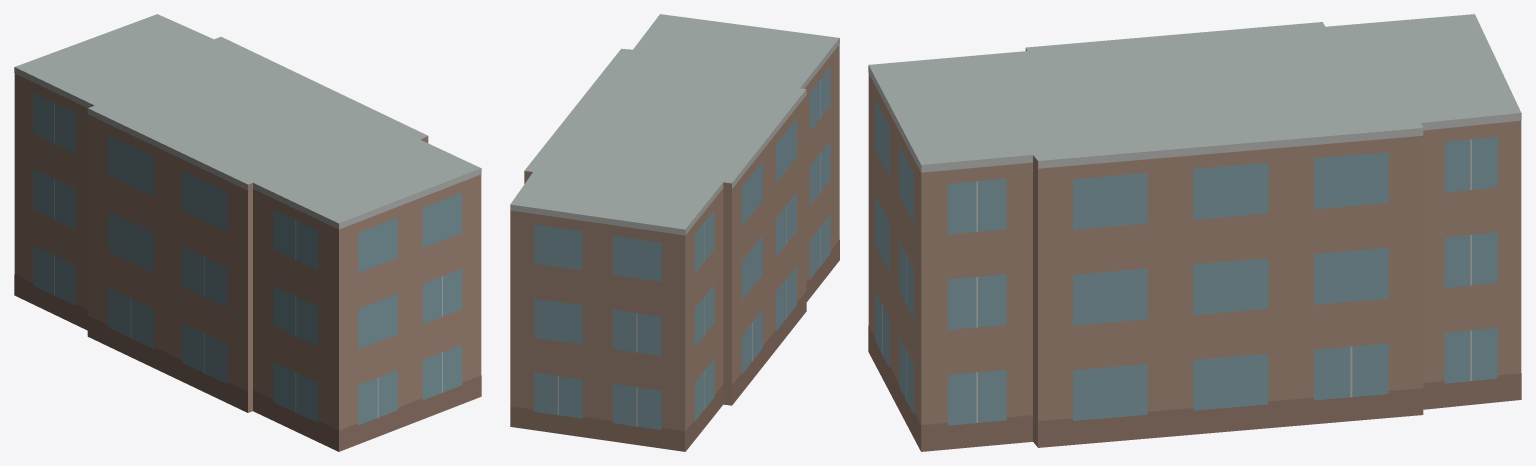
Rendered from survey-upis-32983079.glb.
3 renders of one model, left to right at view 1: azimuth 30°, elevation 25°; view 2: azimuth 150°, elevation 25°; view 3: azimuth 270°, elevation 25°, orthographic. The views are drawn at different scales.
Parts seen in each view (by area): view 1: survey-upis-32983079.tmp; view 2: survey-upis-32983079.tmp; view 3: survey-upis-32983079.tmp.
Boxes of the visible parts, left/top/right/bottom form: survey-upis-32983079.tmp: left=14, top=14, right=481, bottom=451; survey-upis-32983079.tmp: left=510, top=14, right=839, bottom=451; survey-upis-32983079.tmp: left=868, top=14, right=1521, bottom=451.
Bounding box in the file's own units: 10.35 × 9.15 × 18.89.
